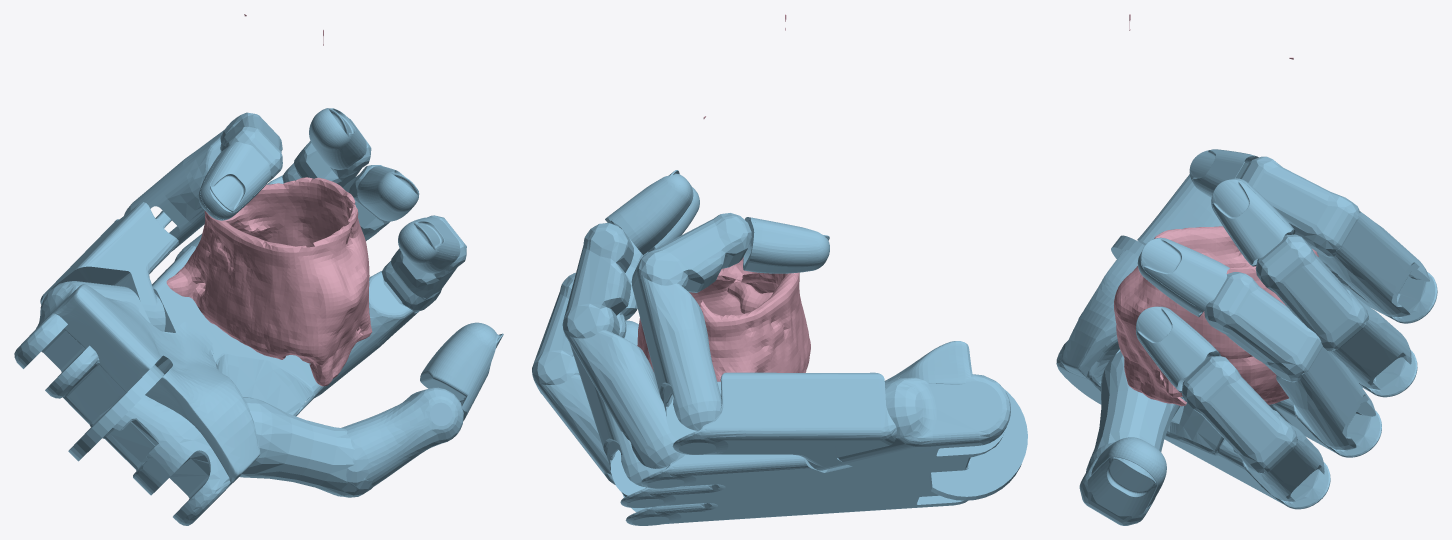
The picture shows the model from 3 angles, left to right: view 1: azimuth 30°, elevation 25°; view 2: azimuth 150°, elevation 25°; view 3: azimuth 270°, elevation 25°; orthographic projection. The views are drawn at different scales.
Parts seen in each view (by area): view 1: hand, world; view 2: hand, world; view 3: hand, world.
Boxes of the visible parts, left/top/right/bottom form: hand: left=14, top=108, right=503, bottom=525; world: left=166, top=14, right=372, bottom=386; hand: left=532, top=170, right=1027, bottom=525; world: left=637, top=14, right=810, bottom=381; hand: left=1056, top=149, right=1437, bottom=525; world: left=1114, top=14, right=1318, bottom=406.
Size of the model in its own units: 0.1624 by 0.1638 by 0.1168.
